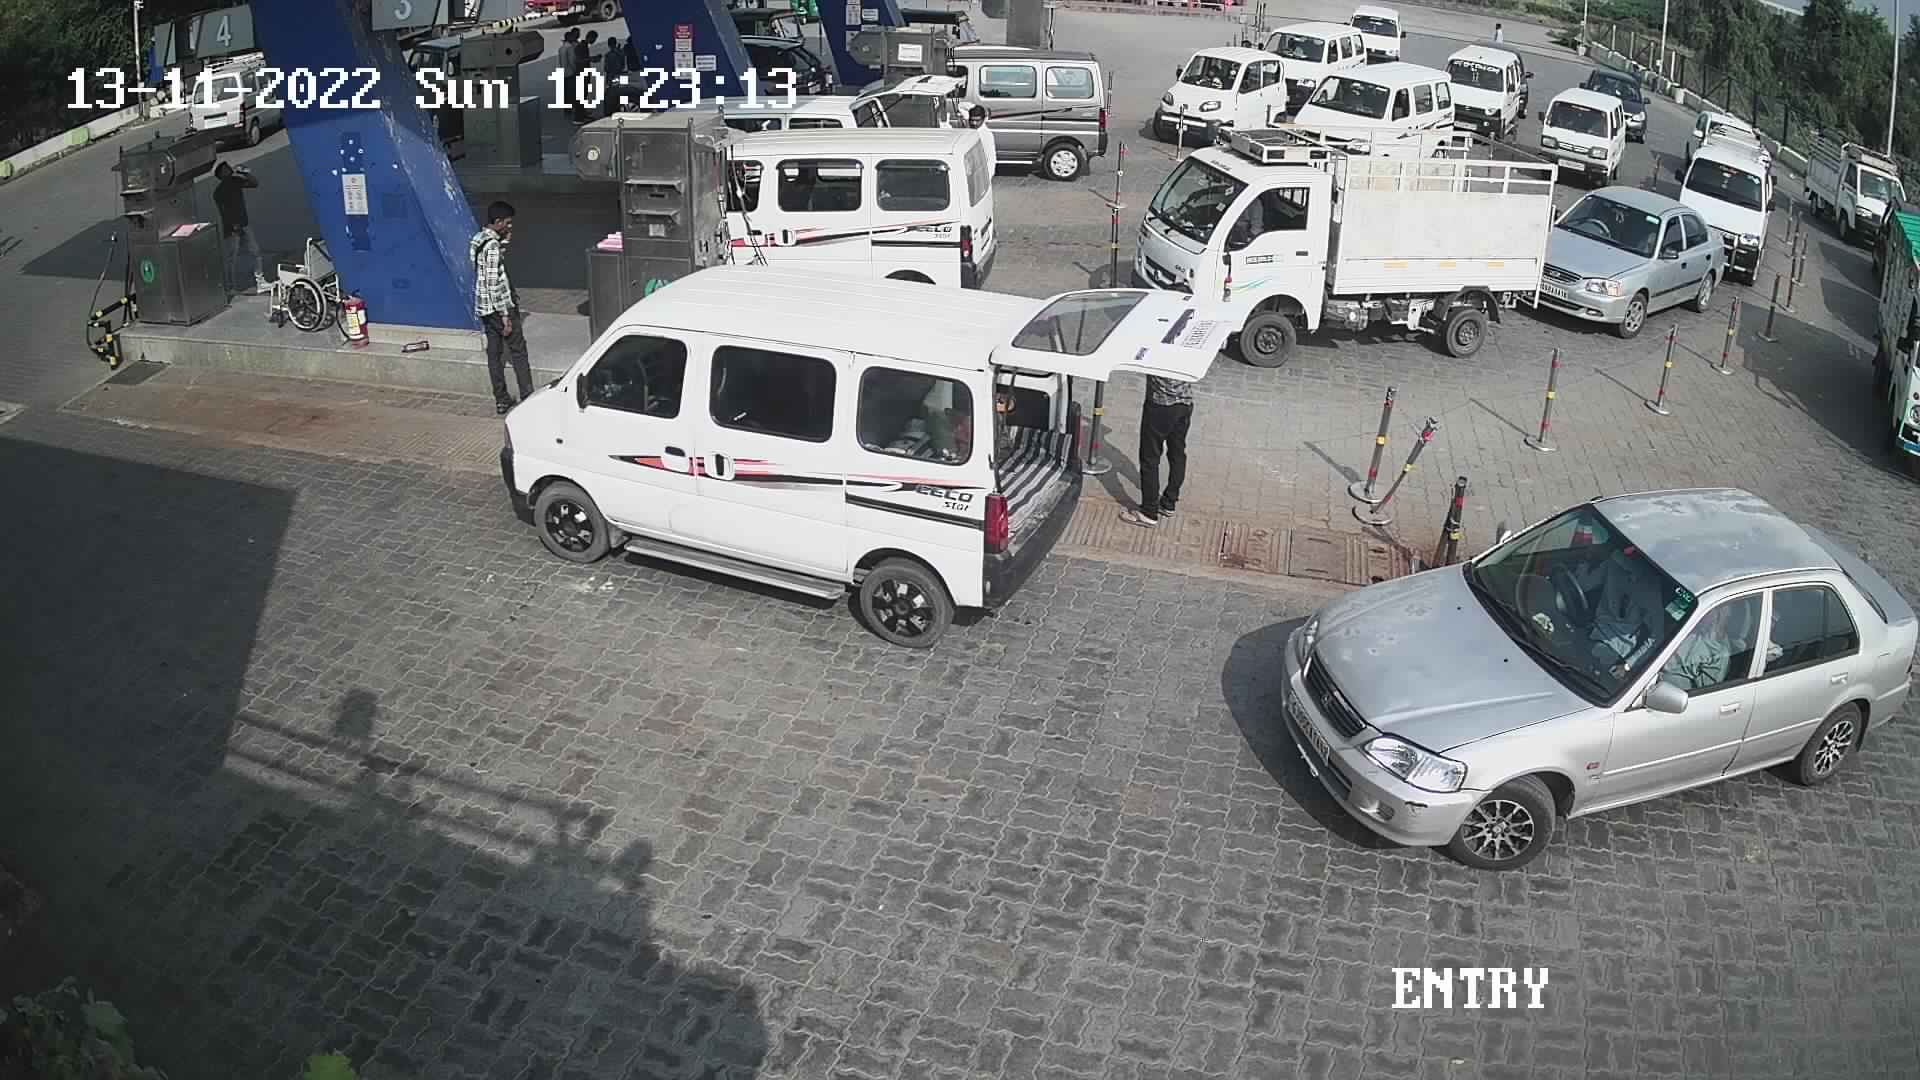Auto: (898, 1, 982, 59), (724, 0, 815, 47)
Car: (495, 253, 1251, 665), (1273, 477, 1917, 881), (1126, 113, 1565, 365), (712, 117, 1006, 297), (1516, 179, 1729, 344), (936, 40, 1117, 189), (647, 67, 967, 140), (1279, 55, 1461, 165), (1858, 181, 1917, 483), (1665, 133, 1775, 287), (1793, 127, 1917, 253), (1151, 40, 1294, 146), (173, 45, 305, 154), (1524, 84, 1635, 193), (402, 26, 484, 171), (1679, 100, 1782, 212), (1251, 17, 1365, 117), (1432, 40, 1527, 144), (735, 26, 837, 107), (1577, 65, 1658, 152), (1462, 33, 1535, 121), (1341, 5, 1411, 73)
